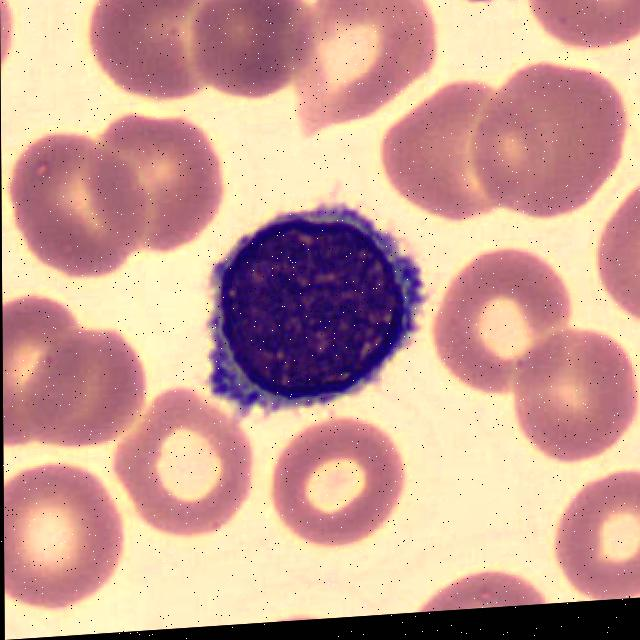lymphocyte: (193, 201, 437, 423)
platelets: (445, 0, 511, 8)
rbc: (474, 60, 620, 216), (114, 387, 251, 541), (436, 251, 582, 382), (505, 327, 640, 466), (287, 0, 433, 120), (381, 77, 493, 228), (12, 136, 134, 272), (3, 455, 118, 598), (279, 419, 403, 545), (95, 113, 209, 242), (26, 322, 139, 450), (88, 0, 205, 107), (2, 300, 86, 437), (191, 0, 303, 102), (561, 475, 640, 603), (406, 565, 549, 613), (526, 0, 635, 53), (599, 191, 640, 324), (244, 608, 347, 624), (0, 0, 15, 79)
